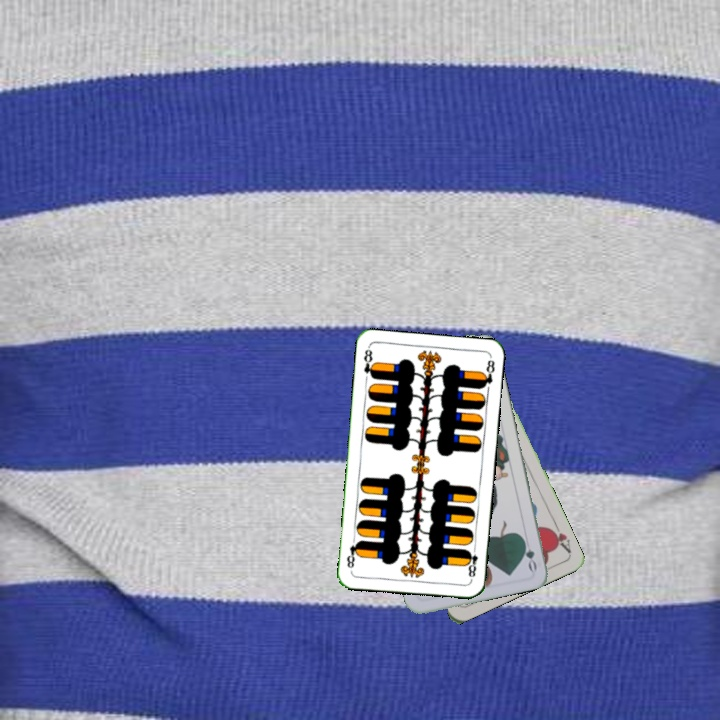E8: (462, 542, 480, 582), (359, 344, 378, 381)
GO: (518, 533, 539, 573)
HA: (545, 518, 574, 556)
